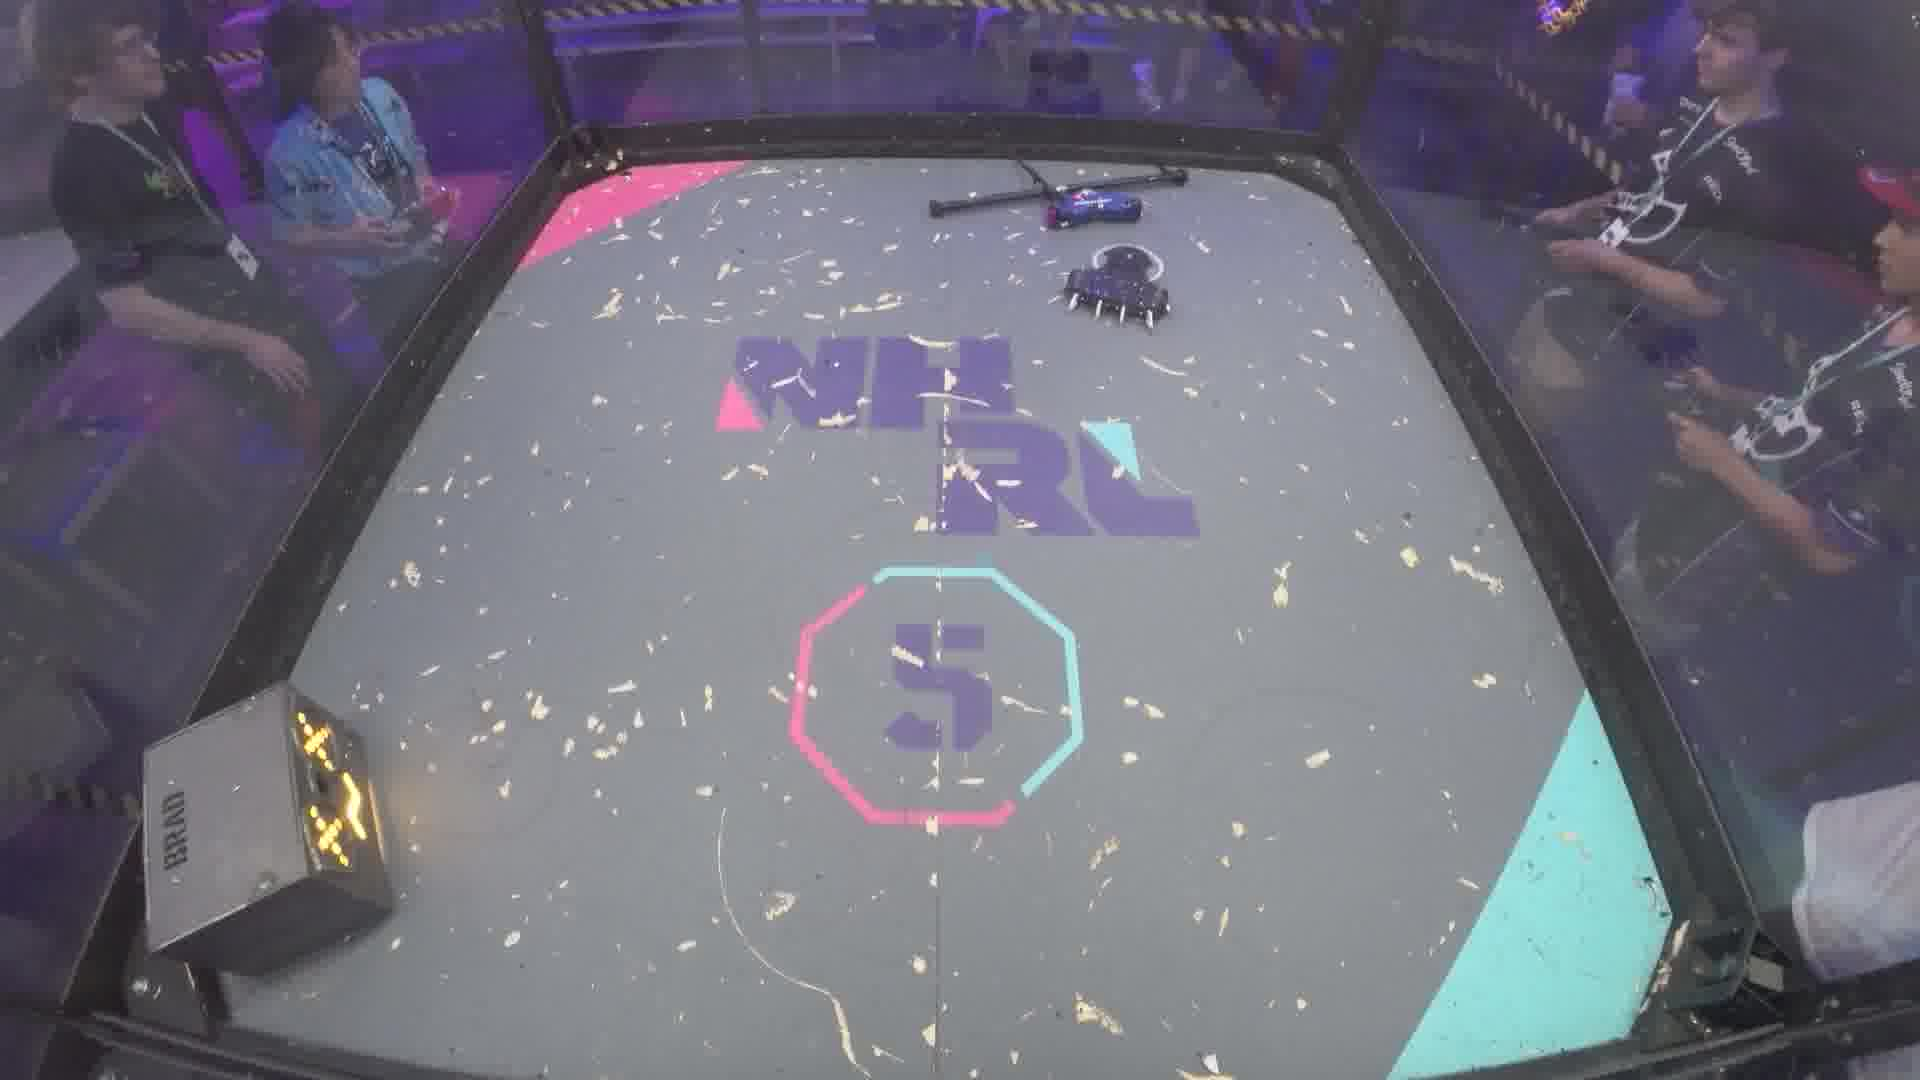combatbot: (926, 153, 1188, 216), (1055, 245, 1172, 335), (1038, 190, 1147, 231)
housebot: (137, 679, 398, 972)
